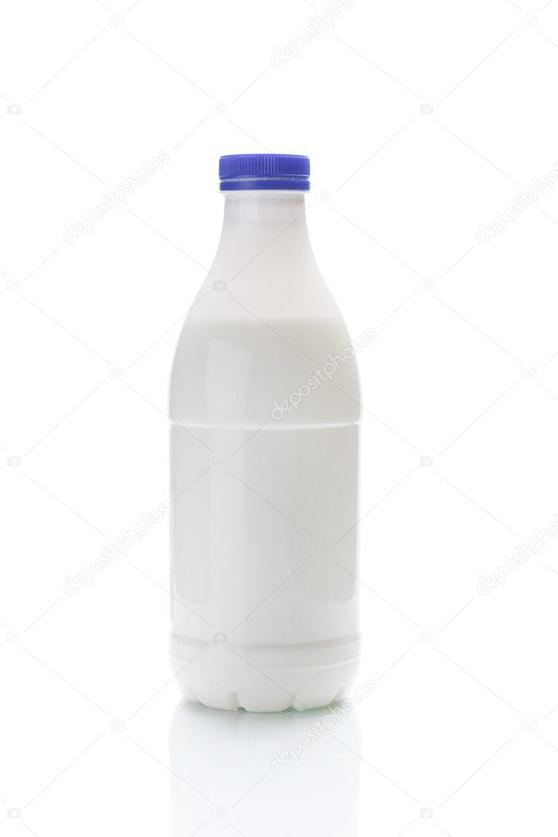milk: (163, 145, 368, 723)
